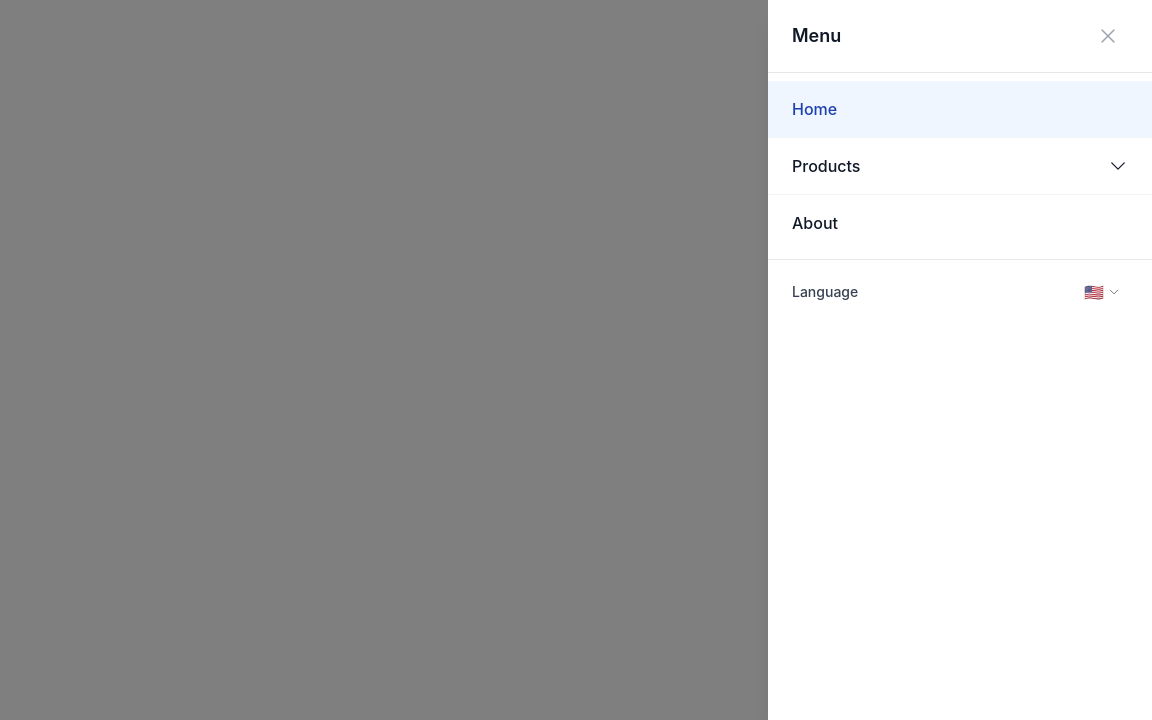
Test: Navigation Components › MobileMenu › expands submenu when parent item is clicked
Click the button "Products" at (826, 166), box [768, 138, 1151, 194]
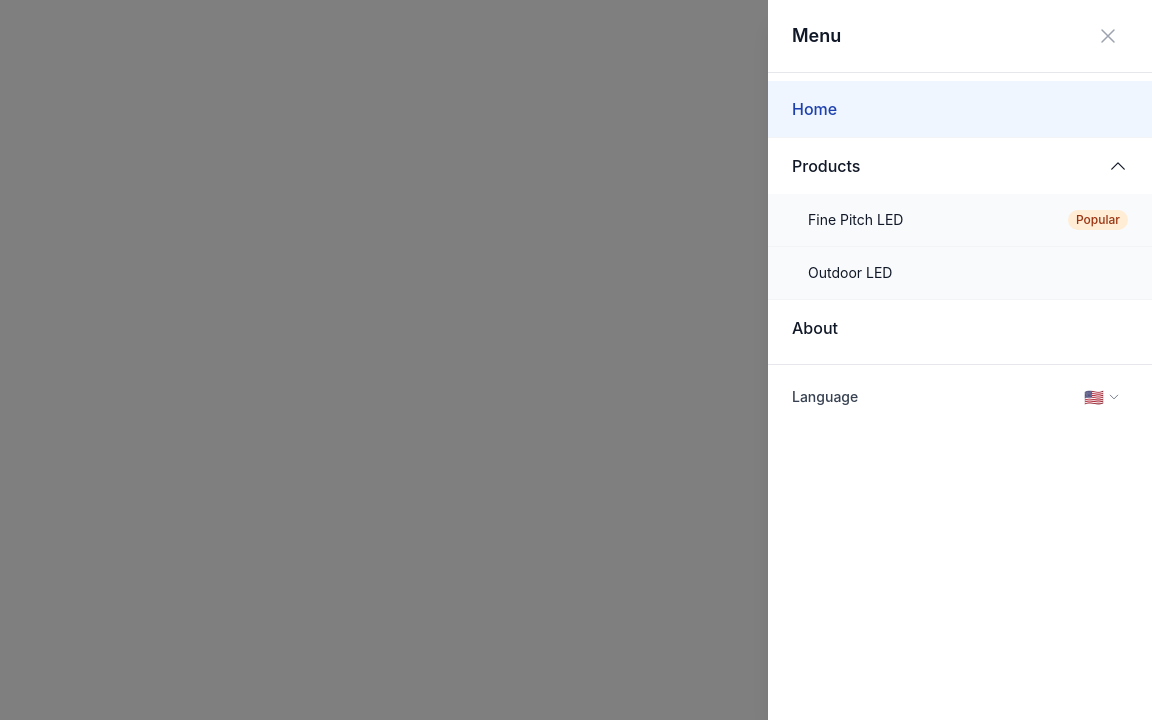
Now the text "Fine Pitch LED" is shown, box [808, 210, 904, 230]
Now the text "Outdoor LED" is shown, box [808, 263, 892, 283]
